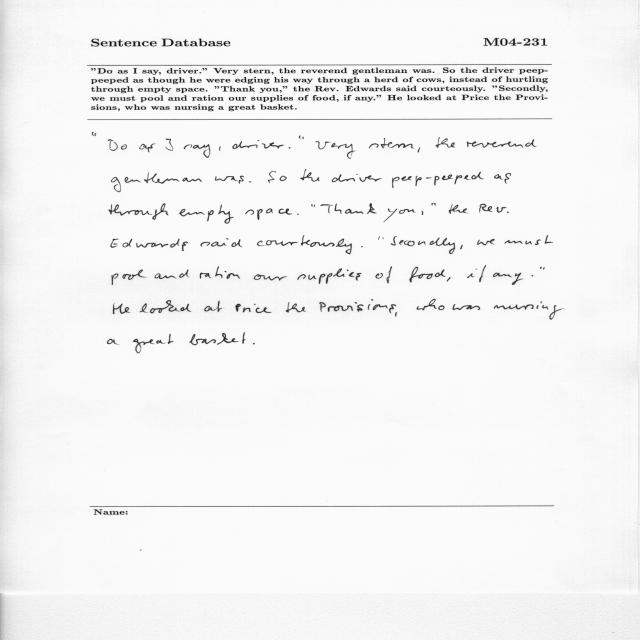word: (111, 173, 202, 193), (257, 236, 352, 255), (392, 172, 484, 188), (319, 299, 397, 317), (494, 301, 563, 320), (391, 236, 456, 254), (179, 205, 234, 224), (298, 268, 362, 284), (109, 203, 169, 220), (111, 239, 188, 251), (133, 334, 173, 353), (189, 333, 246, 346), (140, 300, 192, 314), (316, 141, 356, 159), (320, 203, 377, 214), (467, 139, 536, 148), (112, 269, 146, 285), (410, 267, 446, 282), (200, 266, 240, 279), (245, 209, 292, 220), (369, 138, 414, 149), (504, 235, 553, 245), (233, 140, 285, 149), (384, 209, 416, 223), (331, 174, 382, 182), (201, 239, 243, 248), (184, 144, 210, 158), (493, 273, 523, 285), (155, 269, 189, 279), (236, 304, 272, 313), (467, 266, 486, 283), (375, 267, 392, 284), (479, 204, 509, 213), (300, 169, 320, 182), (215, 176, 244, 184), (254, 274, 287, 281), (285, 302, 306, 313), (416, 299, 437, 310), (108, 139, 127, 151), (268, 171, 287, 183), (436, 137, 455, 148), (204, 301, 222, 312), (494, 173, 511, 184), (113, 303, 130, 314), (449, 204, 467, 214), (453, 304, 481, 310), (139, 144, 156, 153), (477, 239, 495, 245), (166, 138, 173, 151), (108, 339, 120, 345), (439, 305, 445, 310), (378, 236, 384, 240), (447, 277, 451, 282), (93, 132, 97, 136), (299, 136, 304, 139), (432, 203, 437, 206), (540, 267, 545, 270), (312, 204, 316, 207), (460, 245, 463, 249), (219, 146, 221, 151), (418, 148, 420, 153), (289, 147, 291, 149), (249, 181, 251, 183), (422, 211, 423, 215), (297, 214, 299, 215), (361, 246, 363, 247), (532, 275, 534, 276), (253, 343, 255, 344)
